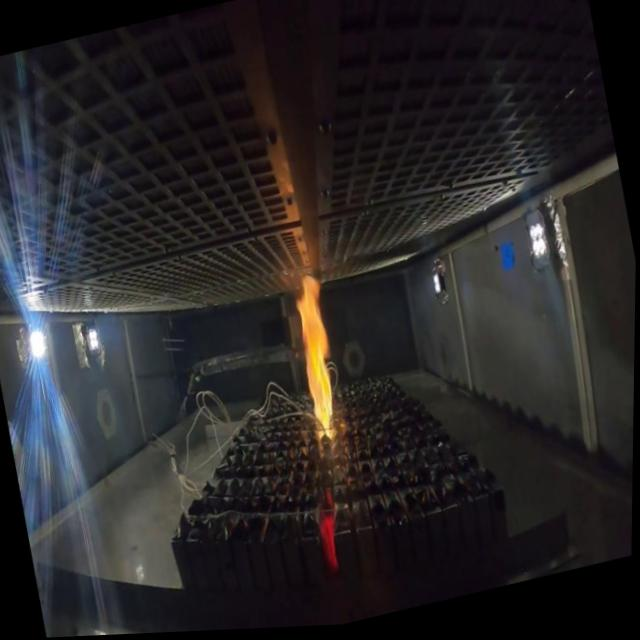fire: (284, 270, 356, 443)
